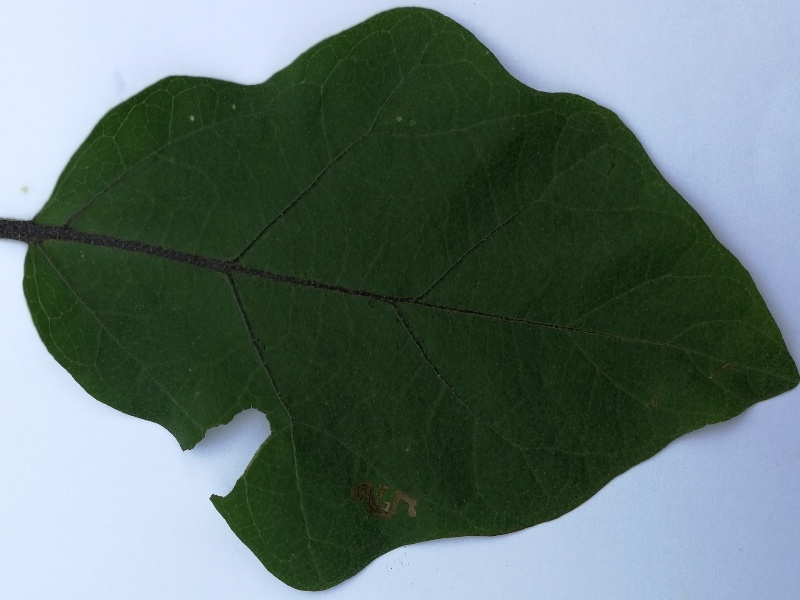leafminer: (339, 474, 428, 531)
